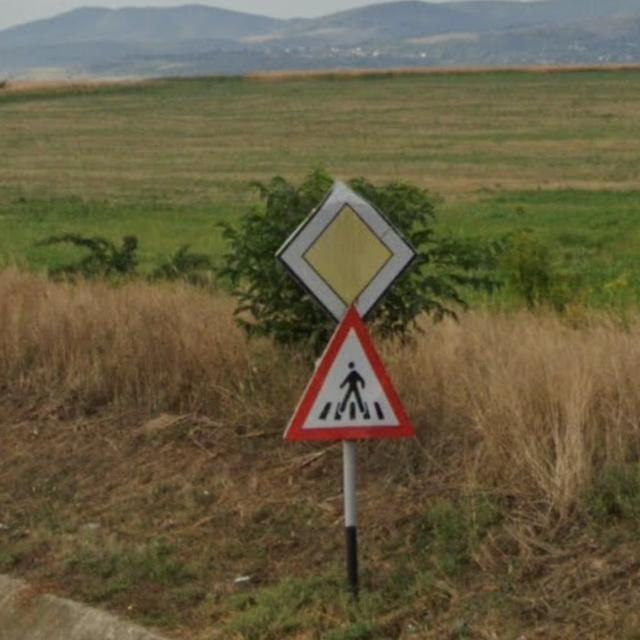warn_crosswalk: (280, 306, 413, 439)
